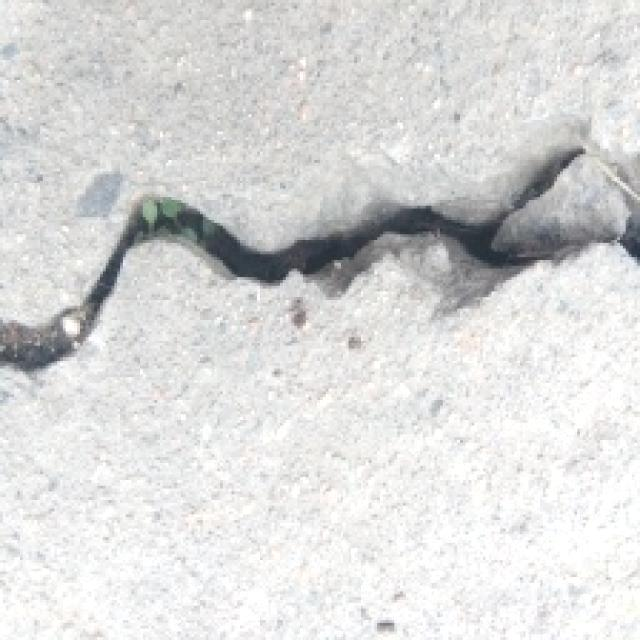SurfaceCrack: (0, 142, 636, 412)
